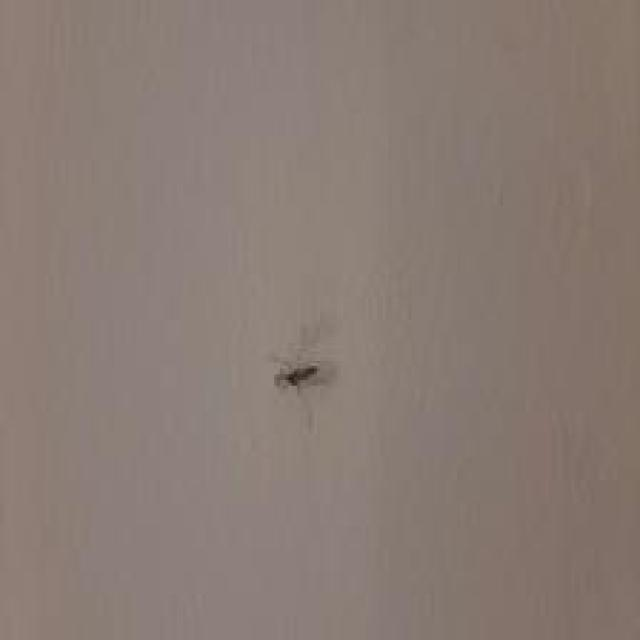Culex: (273, 363, 318, 391)
